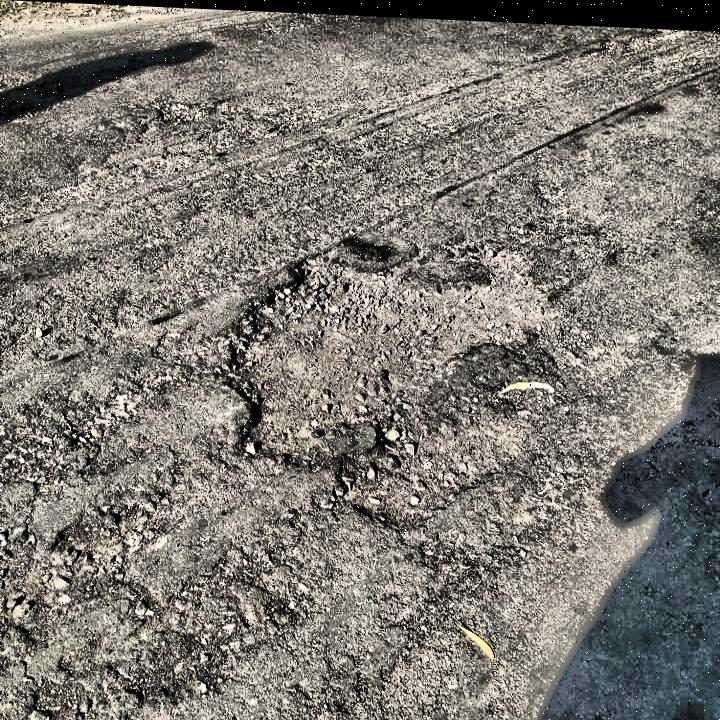pothole: (217, 231, 587, 535)
